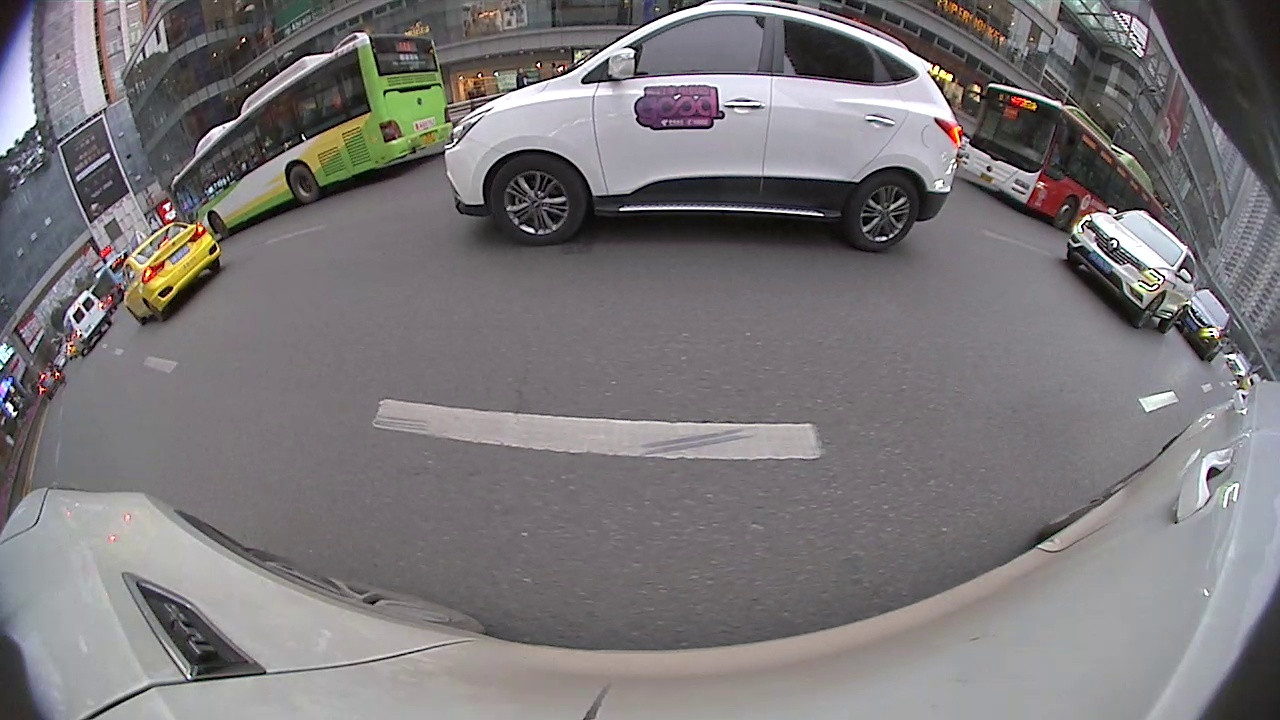bus: (170, 39, 452, 244), (961, 83, 1176, 249)
car: (443, 0, 956, 256), (1061, 213, 1203, 338), (114, 220, 221, 329), (1172, 288, 1237, 361), (61, 290, 112, 356)
front: (488, 154, 587, 247), (1133, 290, 1165, 329), (1055, 198, 1077, 232), (209, 211, 230, 242)
rear: (847, 174, 923, 256), (286, 163, 322, 207)
